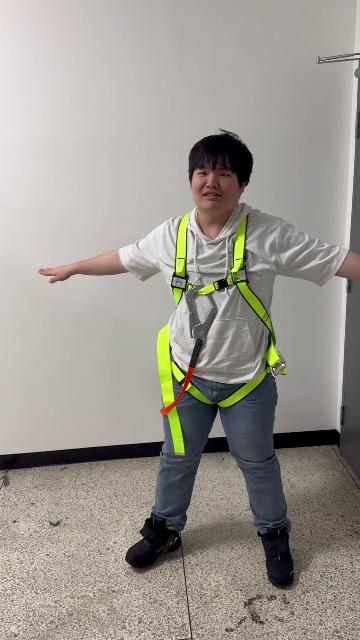helmet_not_worn: (188, 133, 254, 199)
shoe_worn: (125, 514, 182, 568), (258, 526, 294, 586)
vest_worn: (155, 211, 283, 443)
